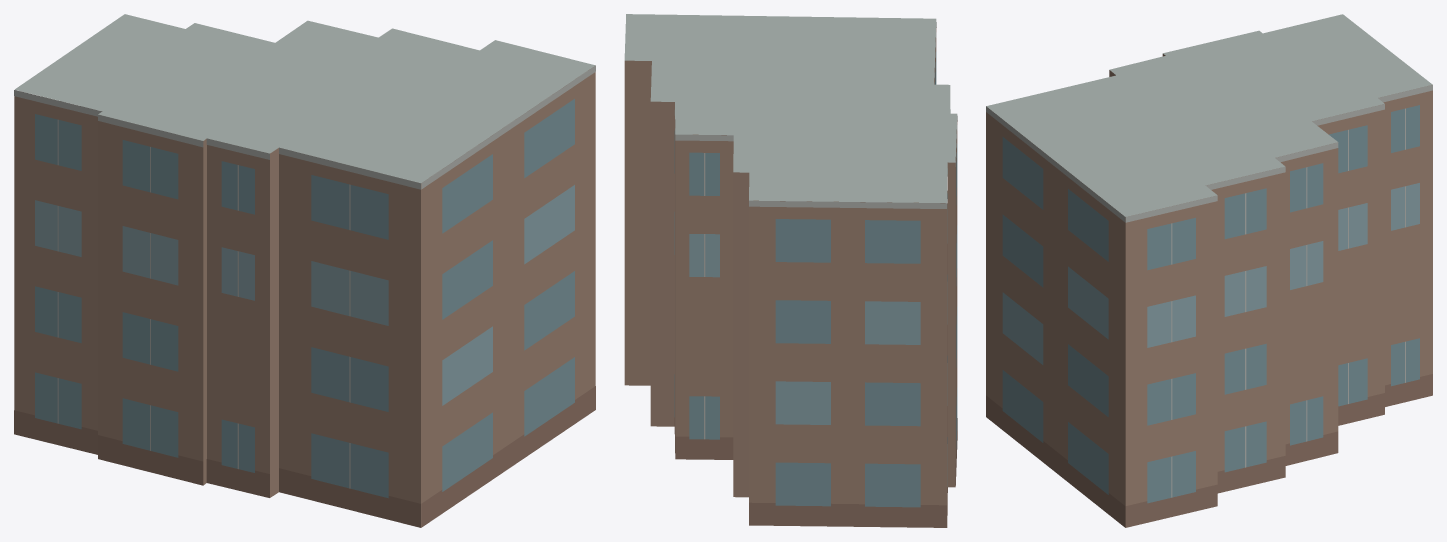
The model's file is survey-upis-32648894.glb.
3 renders of one model, left to right at view 1: azimuth 30°, elevation 25°; view 2: azimuth 150°, elevation 25°; view 3: azimuth 270°, elevation 25°, orthographic. The views are drawn at different scales.
Visible parts, largest first — view 1: survey-upis-32648894.tmp; view 2: survey-upis-32648894.tmp; view 3: survey-upis-32648894.tmp.
Boxes of the visible parts, x1=… form: survey-upis-32648894.tmp: x1=14, y1=14, x2=595, y2=527; survey-upis-32648894.tmp: x1=624, y1=14, x2=957, y2=527; survey-upis-32648894.tmp: x1=986, y1=14, x2=1432, y2=527.
Size of the model in its own units: 18.46 by 13.17 by 17.16.
